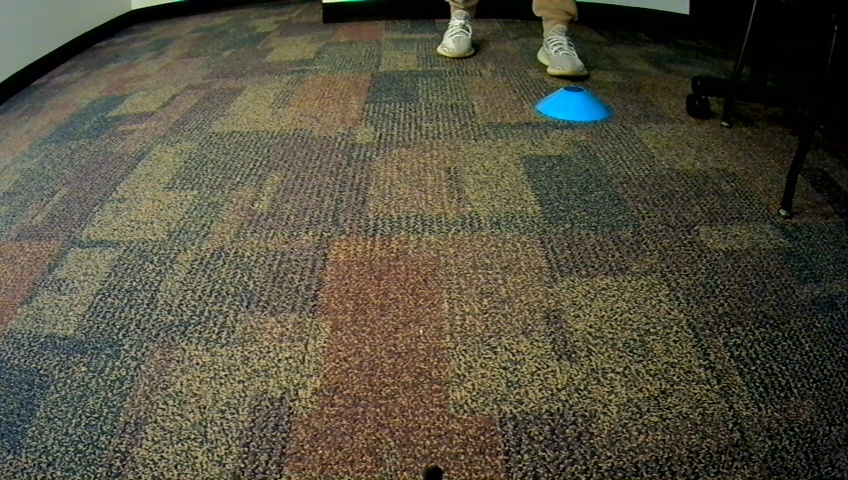cone: (535, 83, 616, 124)
